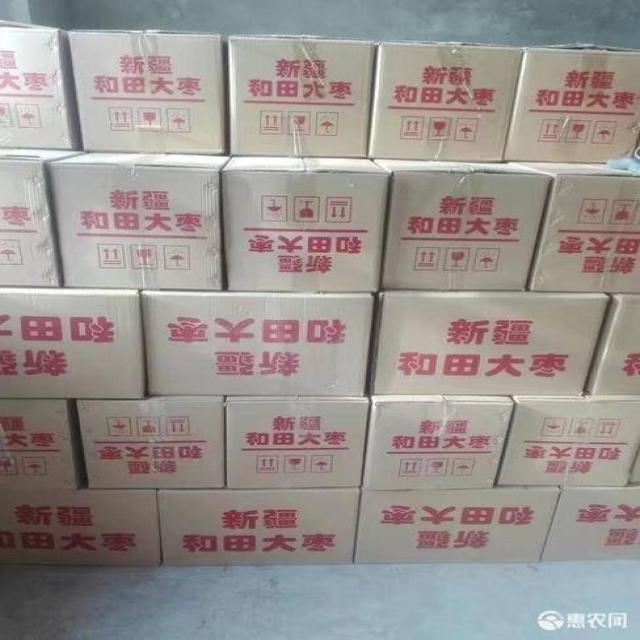box: (43, 151, 228, 290), (370, 291, 609, 395), (139, 290, 375, 395), (220, 156, 392, 293), (372, 160, 553, 290), (64, 29, 226, 156), (367, 41, 526, 161), (228, 34, 376, 160), (511, 162, 640, 292), (504, 43, 640, 164), (0, 288, 146, 399), (354, 487, 561, 563), (157, 489, 359, 565), (76, 396, 227, 491), (362, 397, 515, 490), (223, 397, 370, 490), (497, 397, 640, 487), (0, 490, 163, 564), (0, 149, 79, 288), (0, 19, 79, 151), (540, 485, 640, 562), (0, 398, 76, 492), (588, 292, 640, 395)
